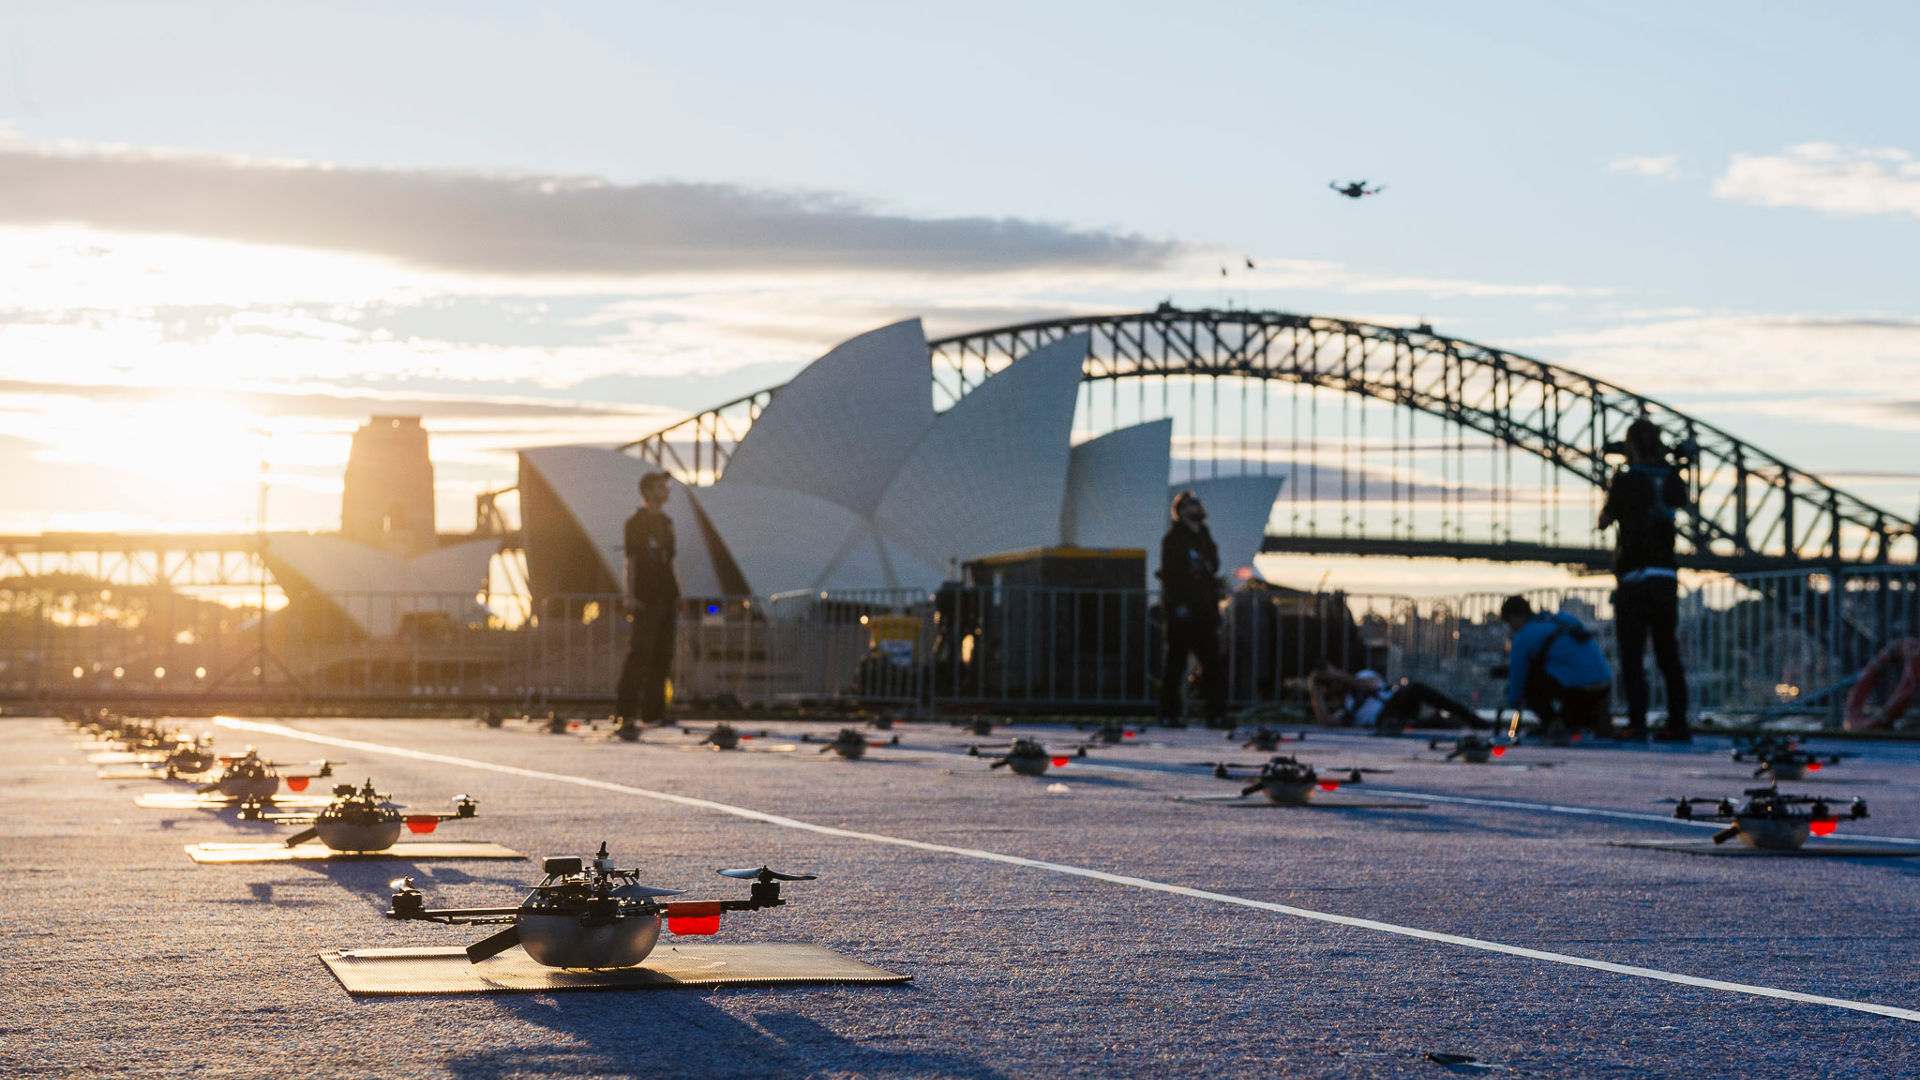drone: (381, 846, 820, 981), (230, 786, 511, 868), (1649, 788, 1876, 852), (1183, 752, 1400, 808), (178, 746, 351, 808), (1716, 742, 1868, 785), (959, 738, 1110, 779), (142, 734, 233, 783), (799, 725, 907, 763), (1426, 729, 1531, 767), (673, 719, 782, 753), (1219, 722, 1321, 755), (1071, 718, 1155, 750), (587, 715, 667, 744), (1323, 177, 1393, 205), (950, 711, 1017, 739), (529, 709, 589, 739), (464, 705, 527, 731)
person: (1130, 469, 1259, 729), (1598, 417, 1699, 746), (1485, 593, 1618, 746), (613, 472, 689, 723), (1304, 666, 1503, 735)
shadow_of_drone: (216, 855, 537, 911), (156, 799, 345, 840)
